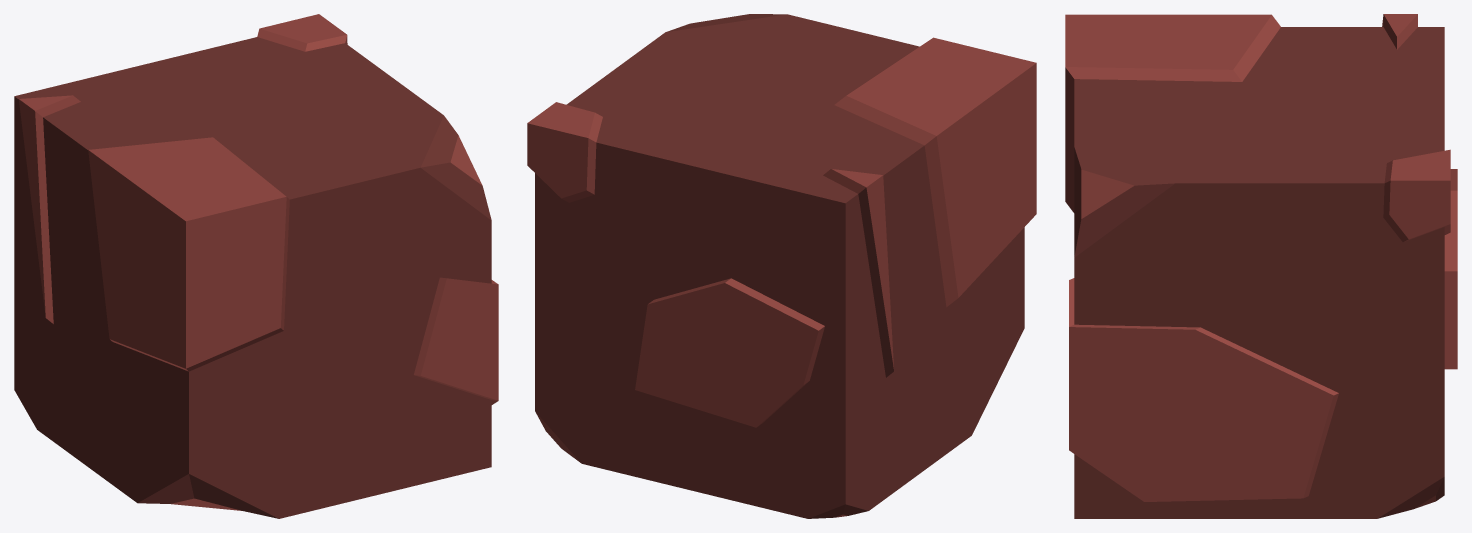
Rendered from Ruin_5_Red.fbx.
3 views of the same model, side by side, from view 1: azimuth 30°, elevation 25°; view 2: azimuth 150°, elevation 25°; view 3: azimuth 270°, elevation 25° (orthographic). The views are drawn at different scales.
Visible parts, largest first — view 1: Ruin_5_Red; view 2: Ruin_5_Red; view 3: Ruin_5_Red.
Boxes of the visible parts, x1,y1,x2,y2 form: Ruin_5_Red: [14, 14, 498, 518]; Ruin_5_Red: [527, 14, 1036, 518]; Ruin_5_Red: [1065, 14, 1457, 518].
Bounding box in the file's own units: 52.13 × 51.32 × 53.02.
